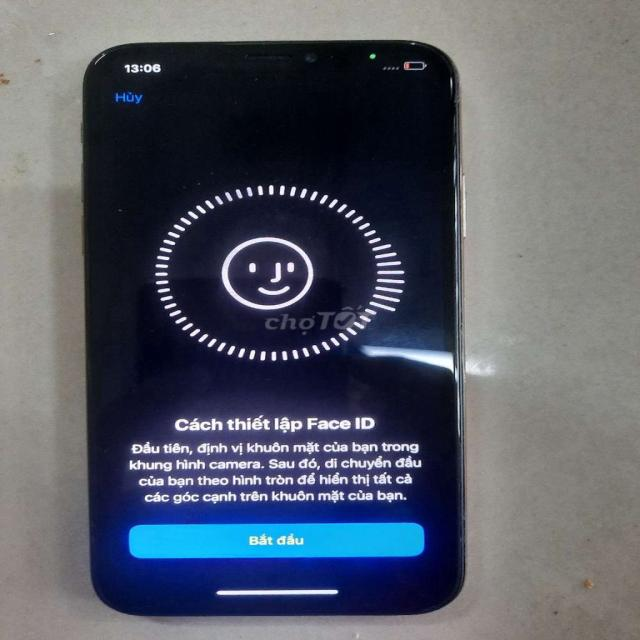gen_x_xs: (83, 34, 471, 620)
